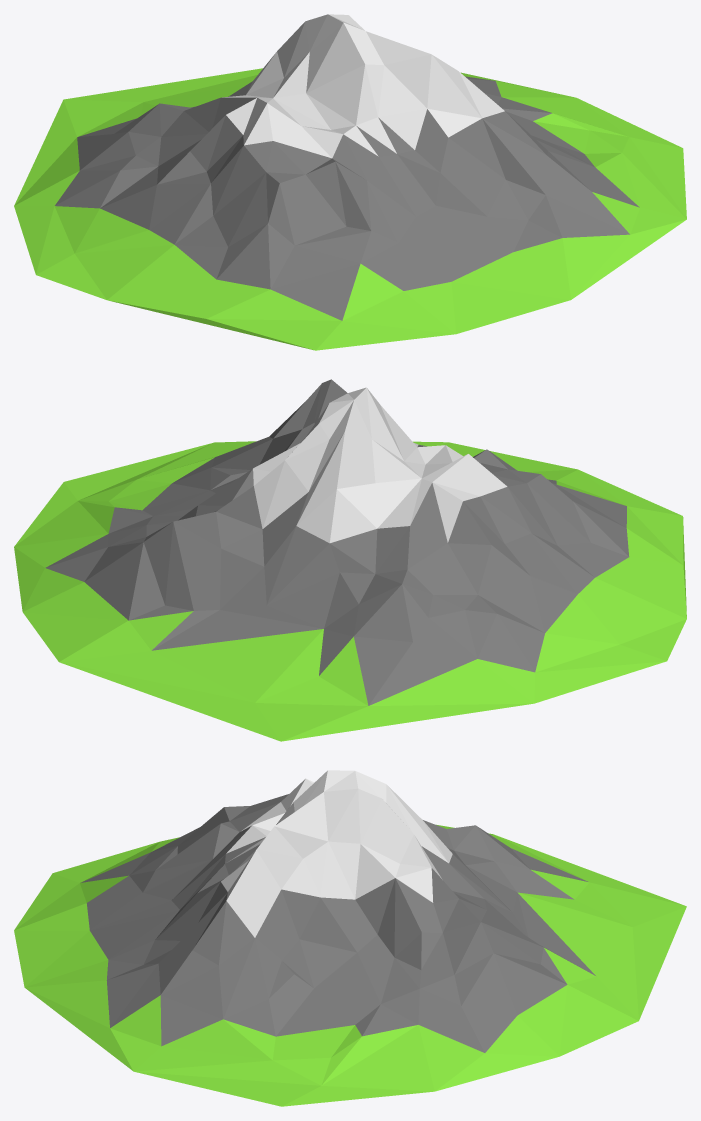
File: Mountain_3.fbx
3 renders of one model, top to bottom at view 1: azimuth 30°, elevation 25°; view 2: azimuth 150°, elevation 25°; view 3: azimuth 270°, elevation 25°, orthographic. The views are drawn at different scales.
Parts seen in each view (by area): view 1: Landscape.003; view 2: Landscape.003; view 3: Landscape.003.
Part boxes in pixels (x1=…): Landscape.003: x1=14, y1=14, x2=686, y2=350; Landscape.003: x1=14, y1=379, x2=686, y2=741; Landscape.003: x1=14, y1=770, x2=686, y2=1106.
Size of the model in its own units: 200 by 57.67 by 191.
